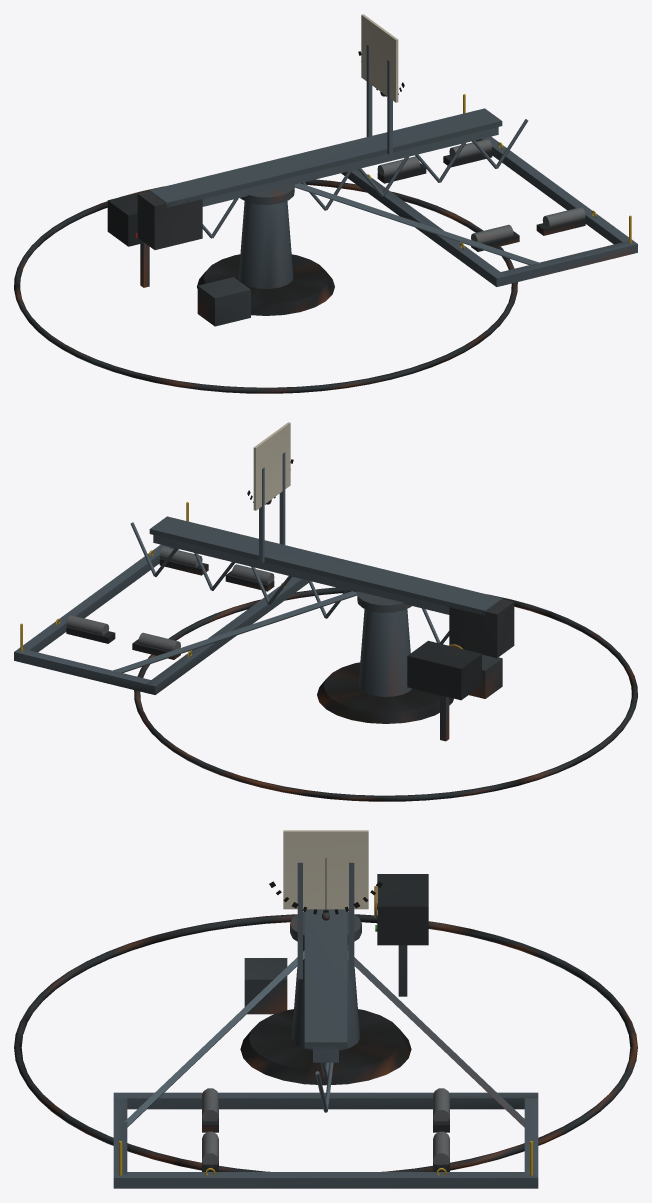
The model's file is turning-arm.glb.
3 views of the same model, one above another, from view 1: azimuth 30°, elevation 25°; view 2: azimuth 150°, elevation 25°; view 3: azimuth 270°, elevation 25° (orthographic). The views are drawn at different scales.
Parts seen in each view (by area): view 1: arm, base; view 2: arm, base; view 3: arm, base.
Boxes of the visible parts, x1=… form: arm: x1=137, y1=14, x2=637, y2=286; base: x1=14, y1=179, x2=517, y2=393; arm: x1=14, y1=422, x2=514, y2=694; base: x1=134, y1=587, x2=637, y2=801; arm: x1=113, y1=830, x2=538, y2=1188; base: x1=14, y1=874, x2=637, y2=1171.
Bounding box in the file's own units: 8.43 × 3.72 × 7.29.
